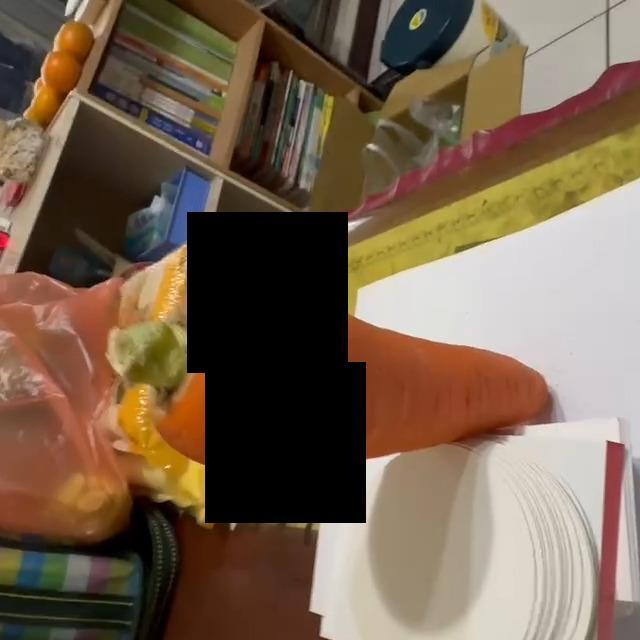carrot: (105, 280, 555, 470)
